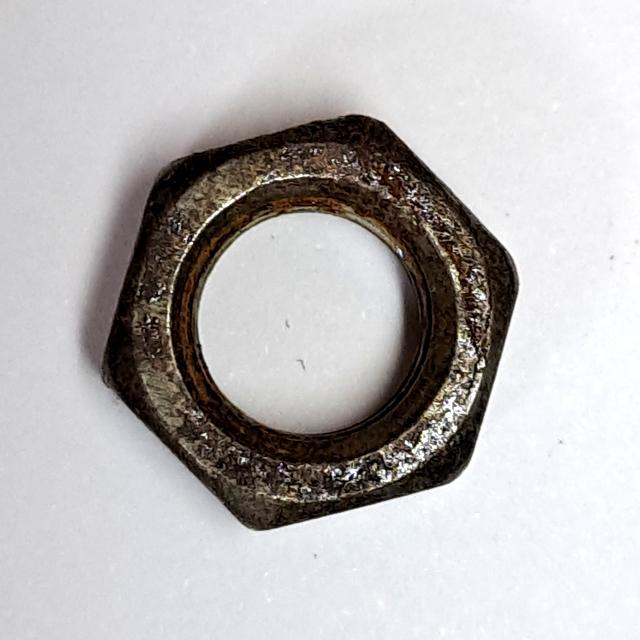Rust: (94, 100, 530, 545)
